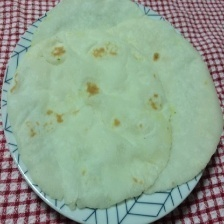roti: (5, 0, 223, 213)
